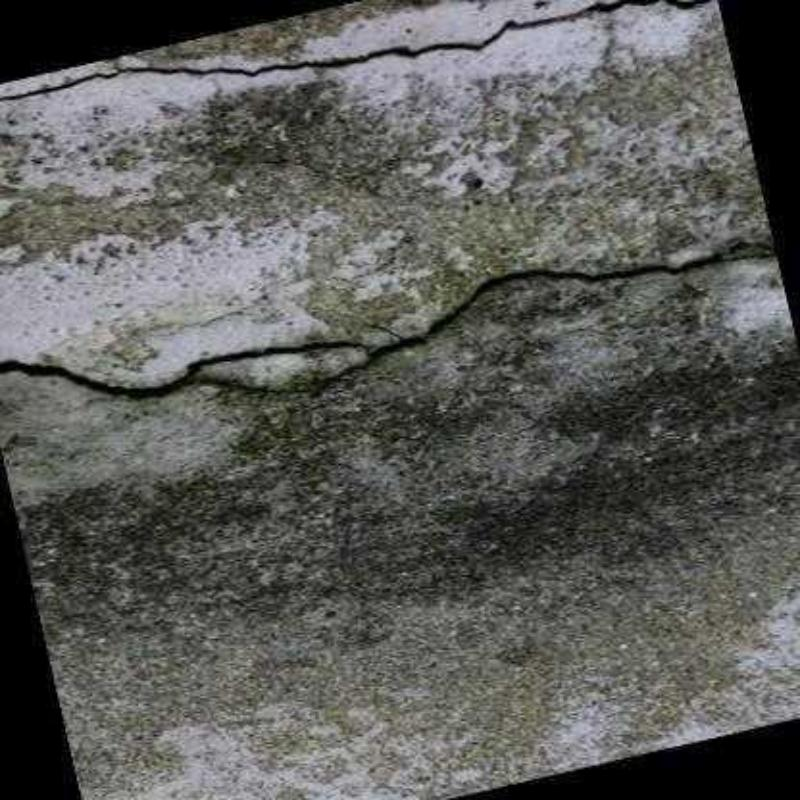pothole: (0, 243, 777, 397), (0, 0, 718, 103), (181, 360, 371, 396)
